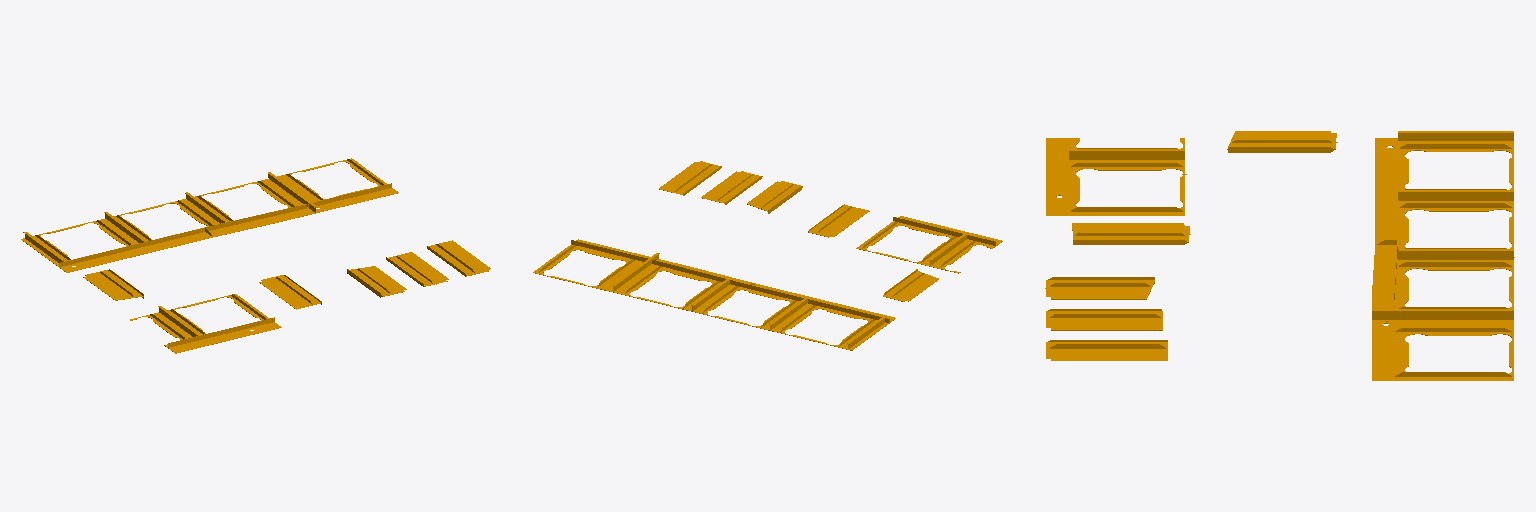
URDF robot description ([number redacted]):
<?xml version="1.0" ?>
<robot name="[number redacted]">
  <link name="201910204483__link_0">
    <inertial>
      <mass value="1"/>
      <origin xyz="0 0 0" rpy="0 0 0"/>
      <inertia ixx="0.166667" ixy="0" ixz="0" iyy="0.166667" iyz="0" izz="0.166667"/>
    </inertial>
    <collision name="201910204483__collision">
      <origin xyz="0 0 0" rpy="0 0 0"/>
      <geometry>
        <mesh filename="meshes/201910250399_s.obj" scale="1 1 1"/>
      </geometry>
    </collision>
    <visual name="201910204483__visual">
      <origin xyz="0 0 0" rpy="0 0 0"/>
      <geometry>
        <mesh filename="meshes/201910250399_s.obj" scale="1 1 1"/>
      </geometry>
    </visual>
  </link>
</robot>

--- Facts derived from the render (not from the file) ---
Views: 3 orthographic renders of the robot side by side, from view 1: azimuth 30°, elevation 25°; view 2: azimuth 150°, elevation 25°; view 3: azimuth 270°, elevation 25°.
Model [number redacted] with 1 links and 0 joints (none), rooted at 201910204483__link_0, posed all joints at 0.
Visible links, largest first — view 1: 201910204483__link_0; view 2: 201910204483__link_0; view 3: 201910204483__link_0.
Boxes of the visible links, box(x1,y1,x2,y2) form: 201910204483__link_0: box(21, 158, 490, 353); 201910204483__link_0: box(533, 161, 1002, 350); 201910204483__link_0: box(1045, 131, 1514, 380).
Size in the robot's own frame: 11.54 by 9.43 by 0.307 metres.
Meshes: 1 distinct files referenced, 1 mesh visuals loaded (1 OBJ).
